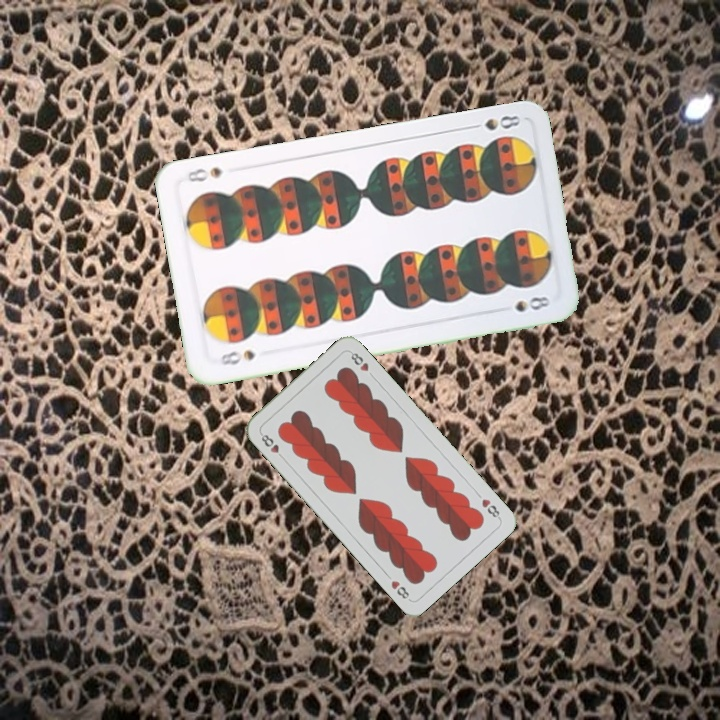H8: (256, 429, 287, 462), (478, 495, 503, 522)
S8: (464, 111, 523, 133), (217, 346, 257, 368)
